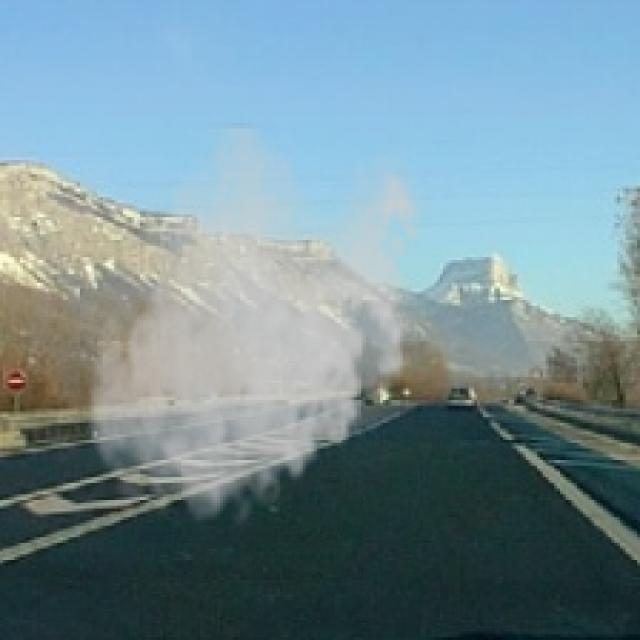smoke: (80, 123, 431, 534)
